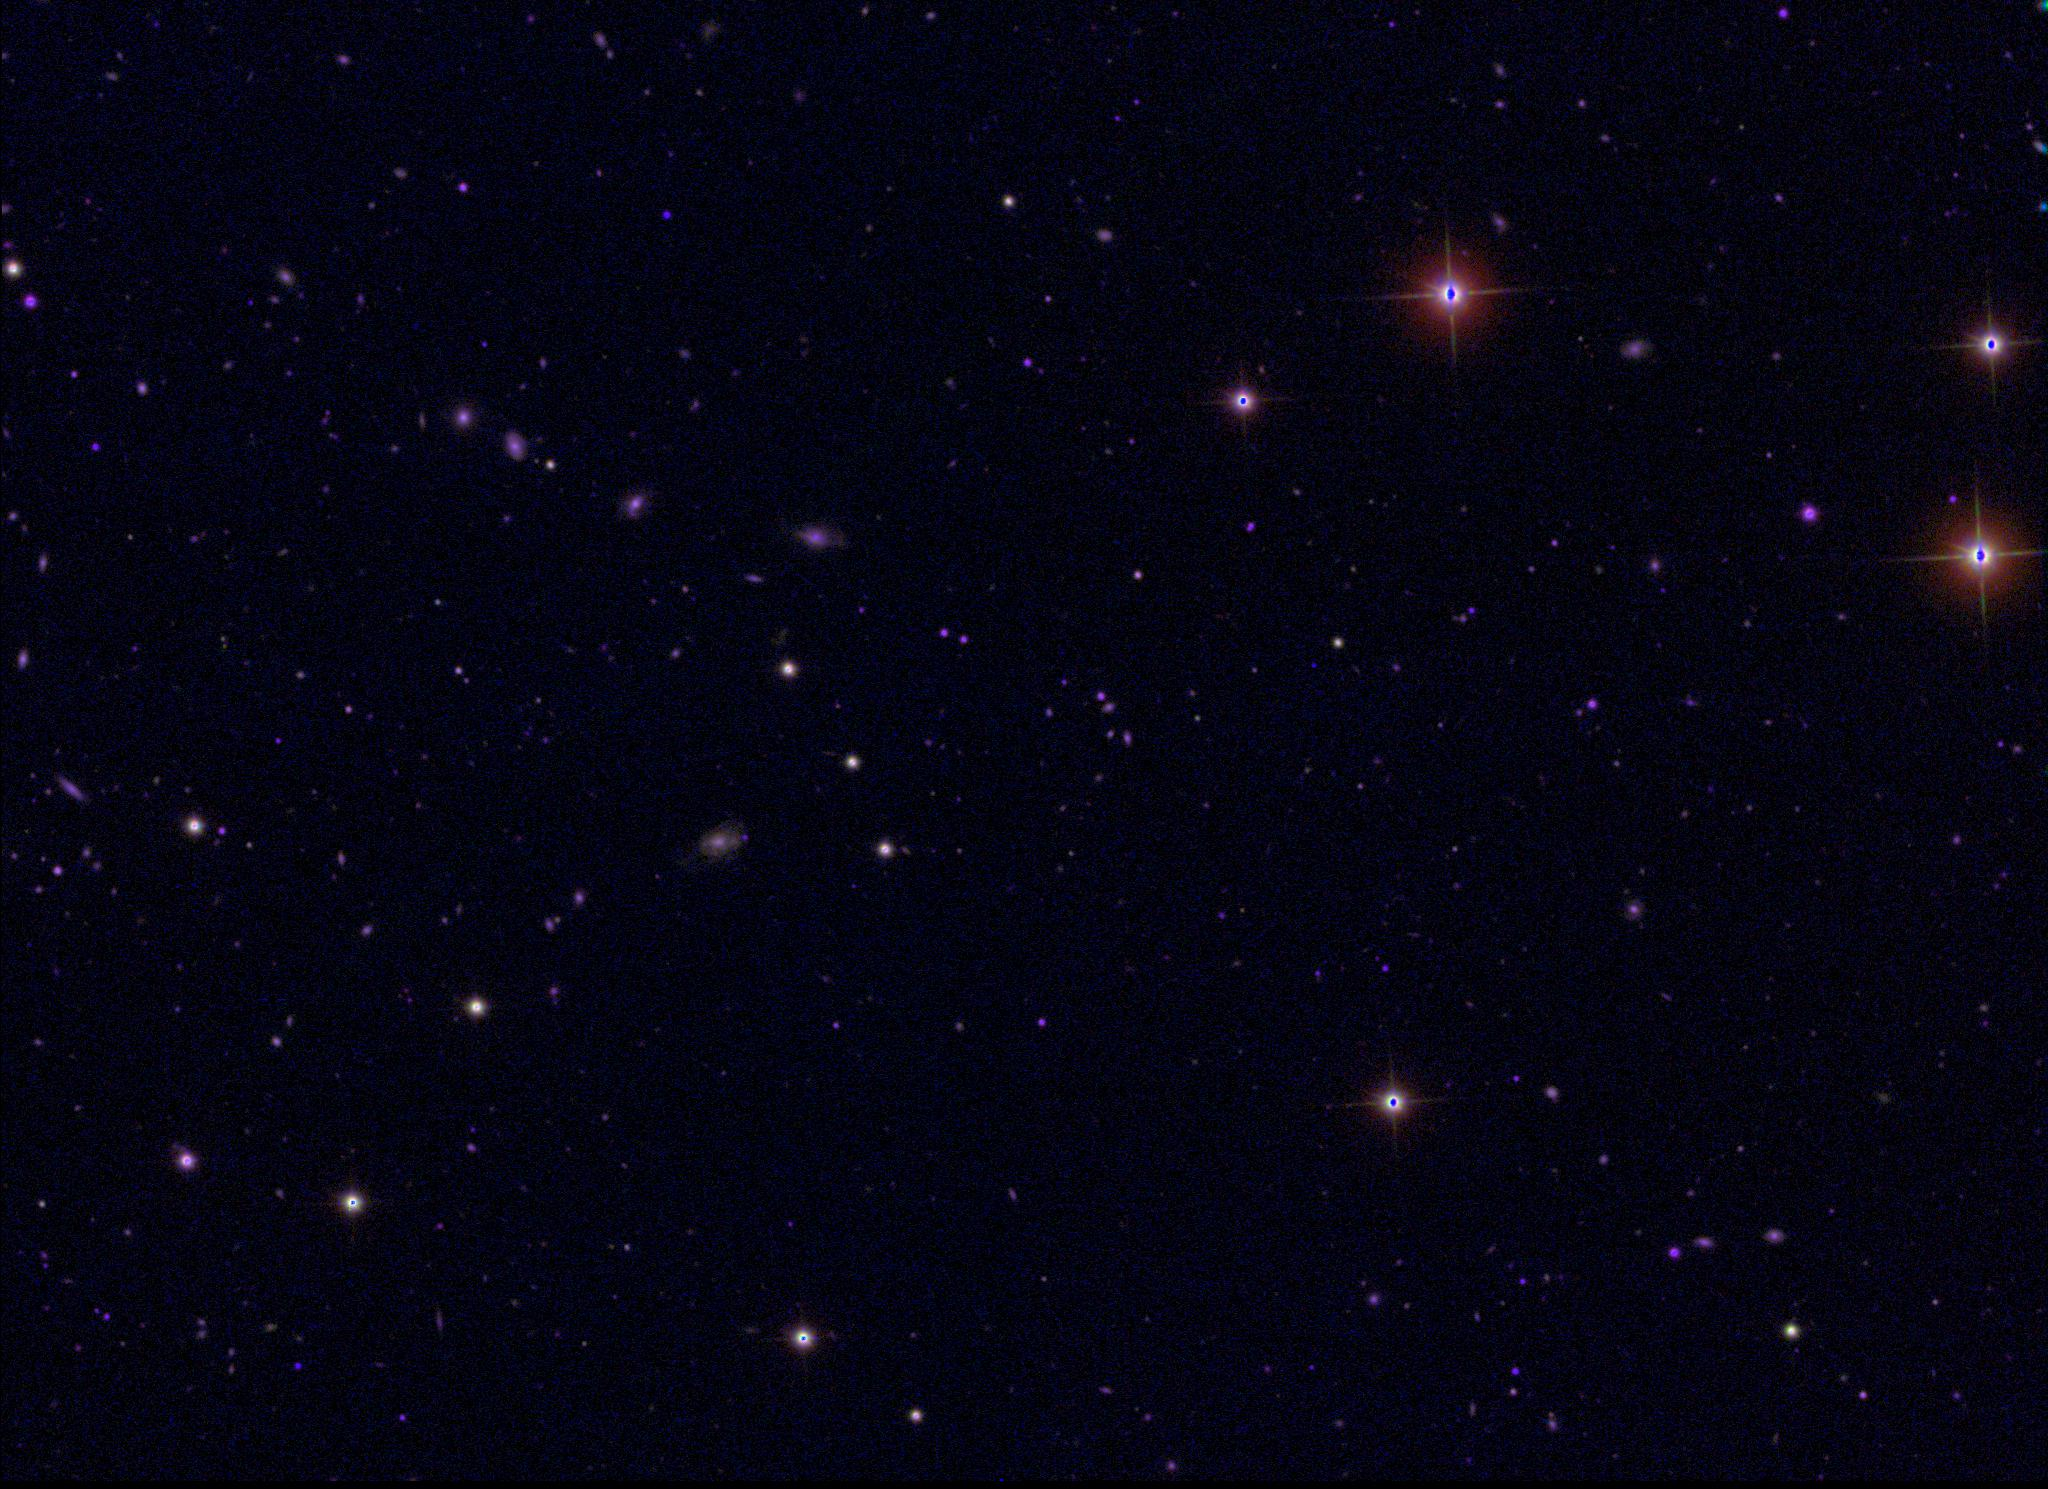L: (1307, 659, 1321, 673)
